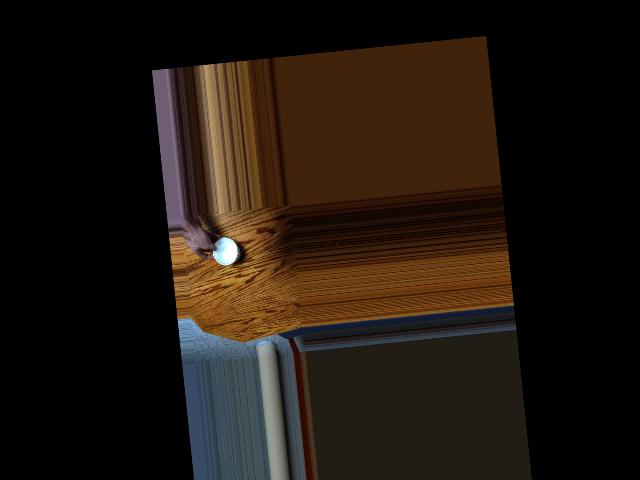cotage: (210, 236, 240, 271)
